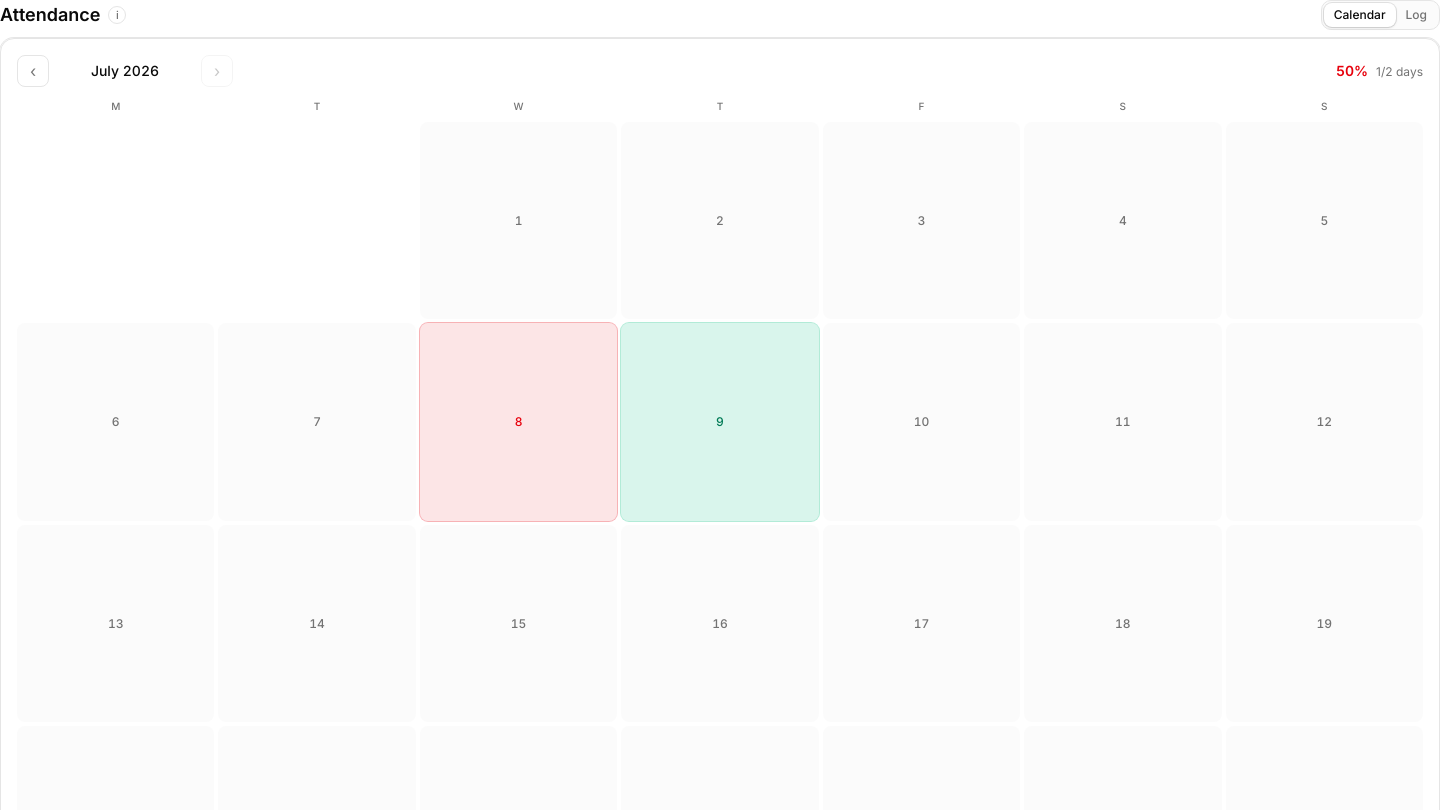
it: StudentAttendanceCalendar › flags a missing sign-off and dashes an absent day's times in the log
Click the button "log". click: (1416, 15)
box: [1396,3,1437,27]
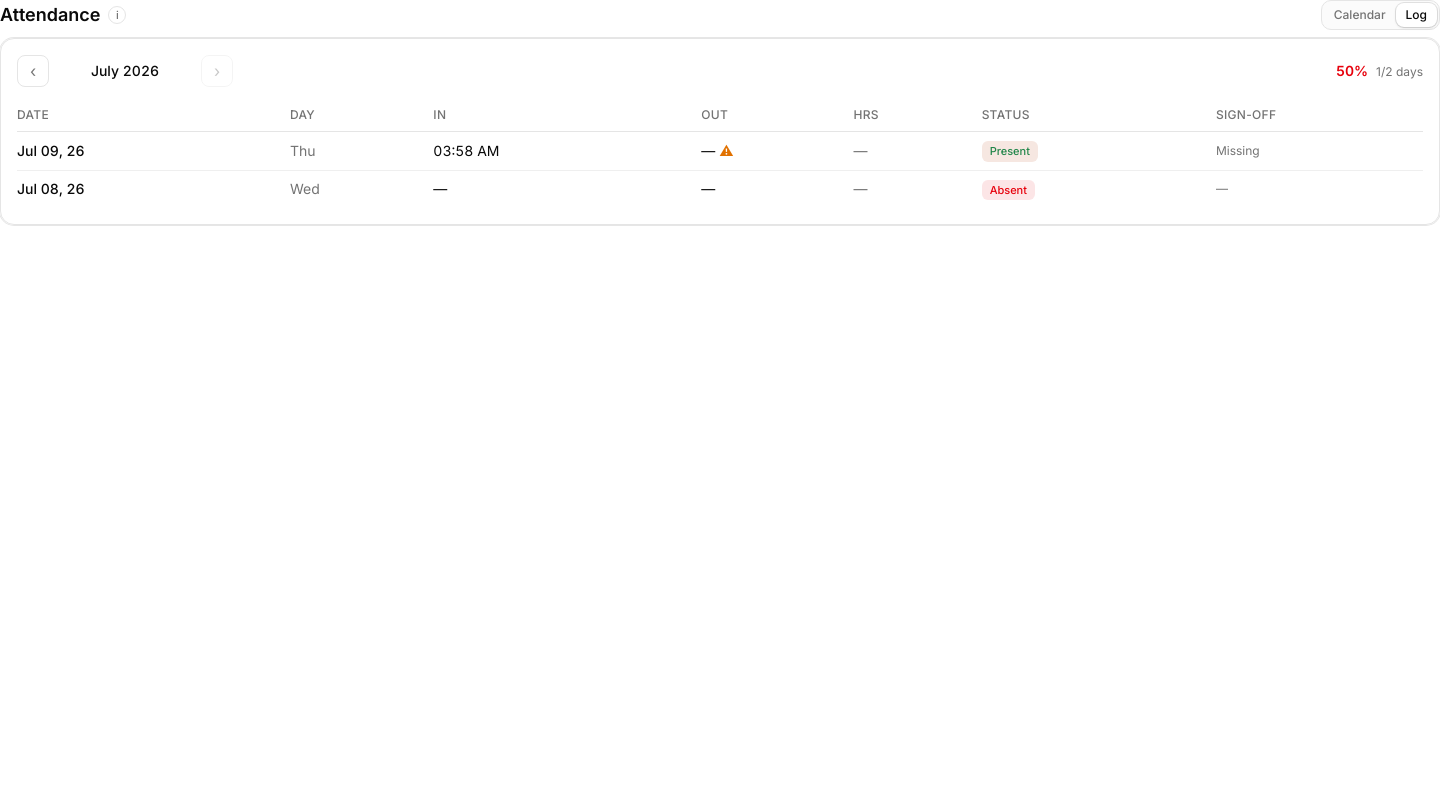
Expected: the text "Absent" is shown, [982,180,1035,200]
Expected: the text "Missing" is shown, [1216,132,1423,170]
